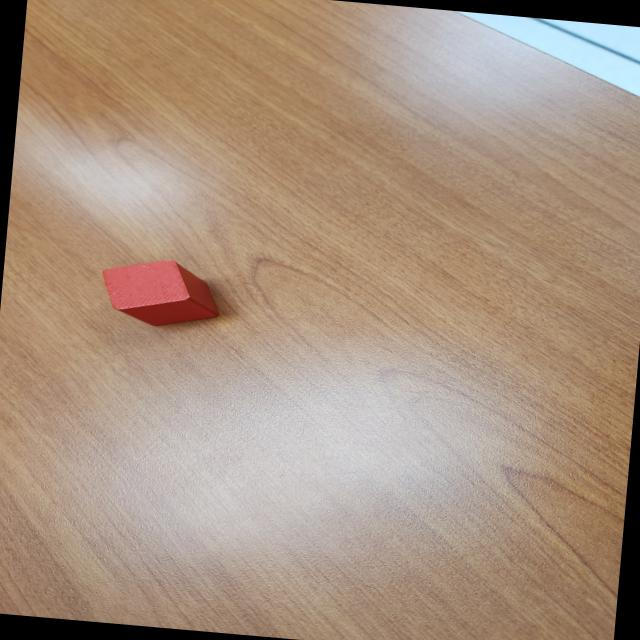red: (99, 254, 224, 330)
